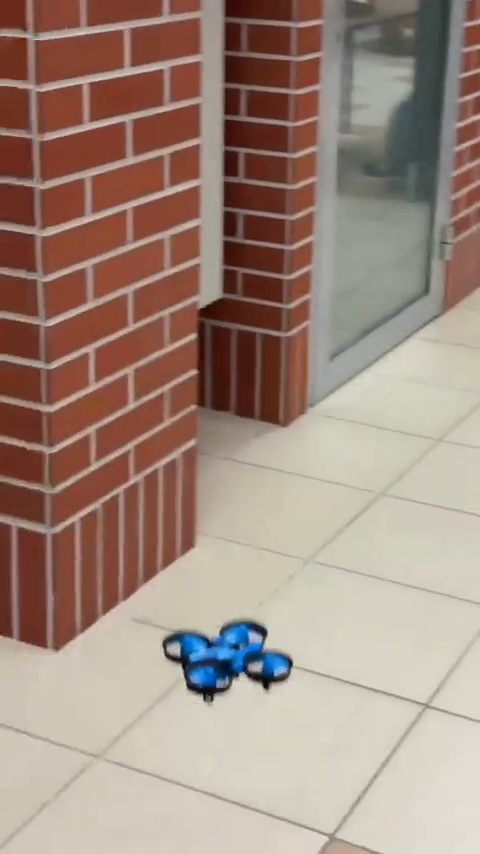drone: (162, 623, 288, 700)
